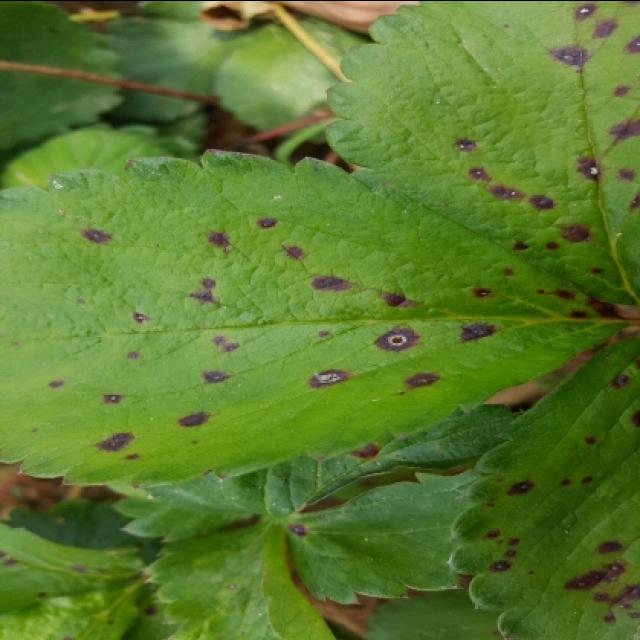Leaf Spot: (0, 149, 629, 488), (323, 0, 638, 305), (450, 330, 638, 638), (154, 395, 539, 529), (289, 468, 479, 604), (144, 511, 335, 638), (0, 496, 173, 578), (0, 550, 149, 638), (121, 580, 181, 638)
